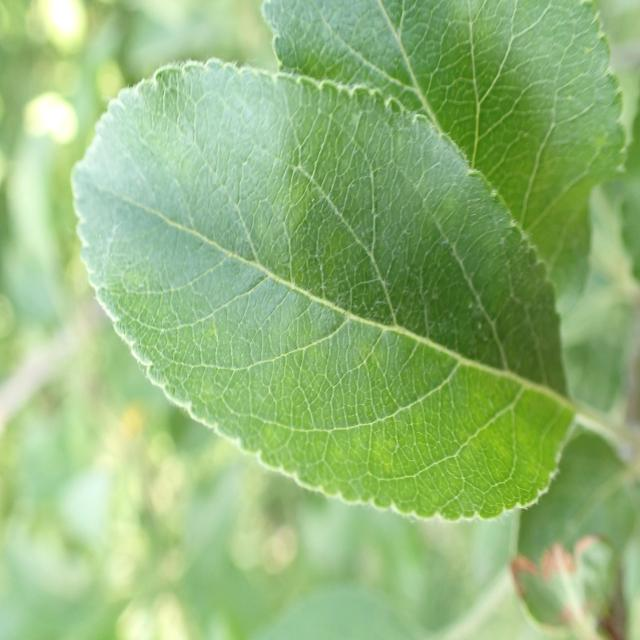healthy: (70, 59, 574, 524), (259, 0, 629, 311)
